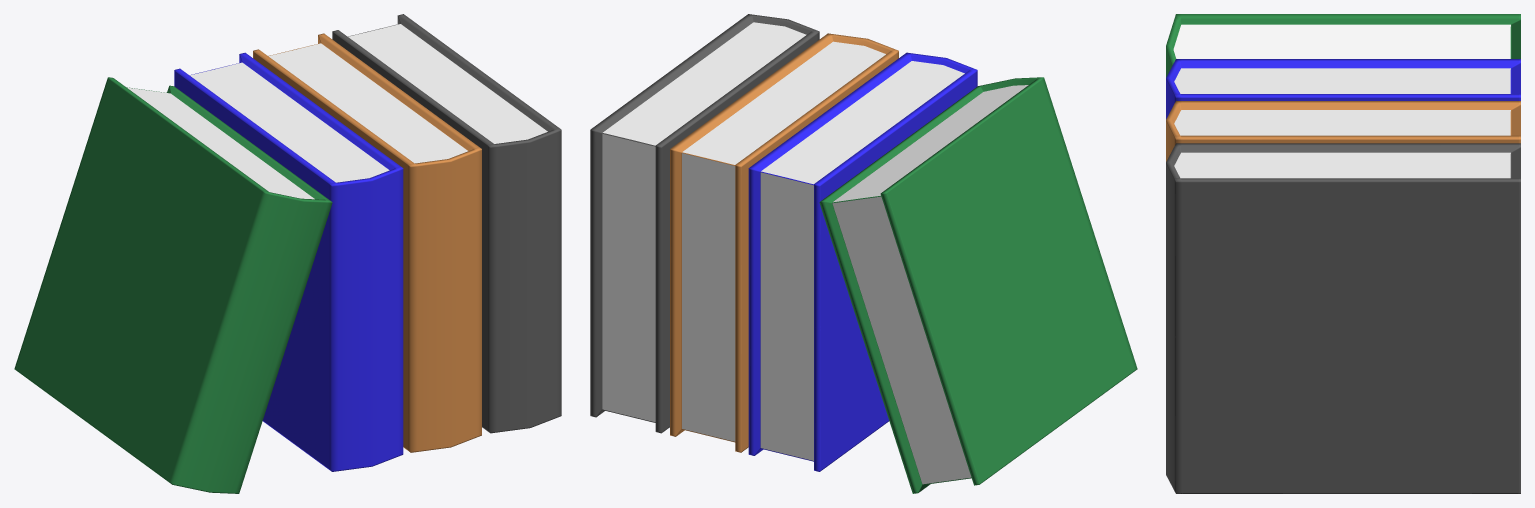
Rendered from libros2.fbx.
The picture shows the model from 3 angles, left to right: view 1: azimuth 30°, elevation 25°; view 2: azimuth 150°, elevation 25°; view 3: azimuth 270°, elevation 25°; orthographic projection. The views are drawn at different scales.
Visible parts, largest first — view 1: book_2; view 2: book_2; view 3: book_2.
Boxes of the visible parts, bbox=[...] form: book_2: bbox=[14, 14, 561, 493]; book_2: bbox=[590, 14, 1137, 493]; book_2: bbox=[1166, 14, 1520, 493].
Bounding box in the file's own units: 37.02 × 26.84 × 26.77.
